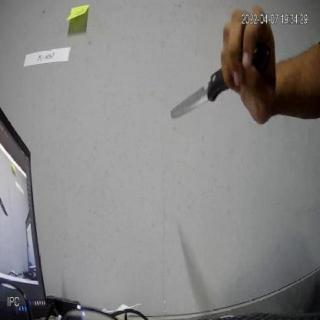knife: (158, 47, 272, 117)
